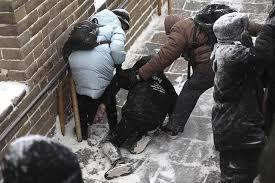Fall-Detected: (101, 51, 176, 150)
